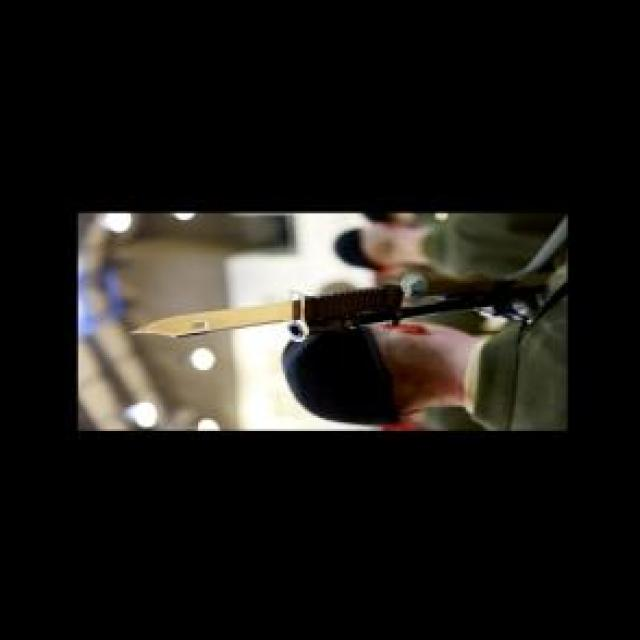knife: (135, 273, 546, 340)
